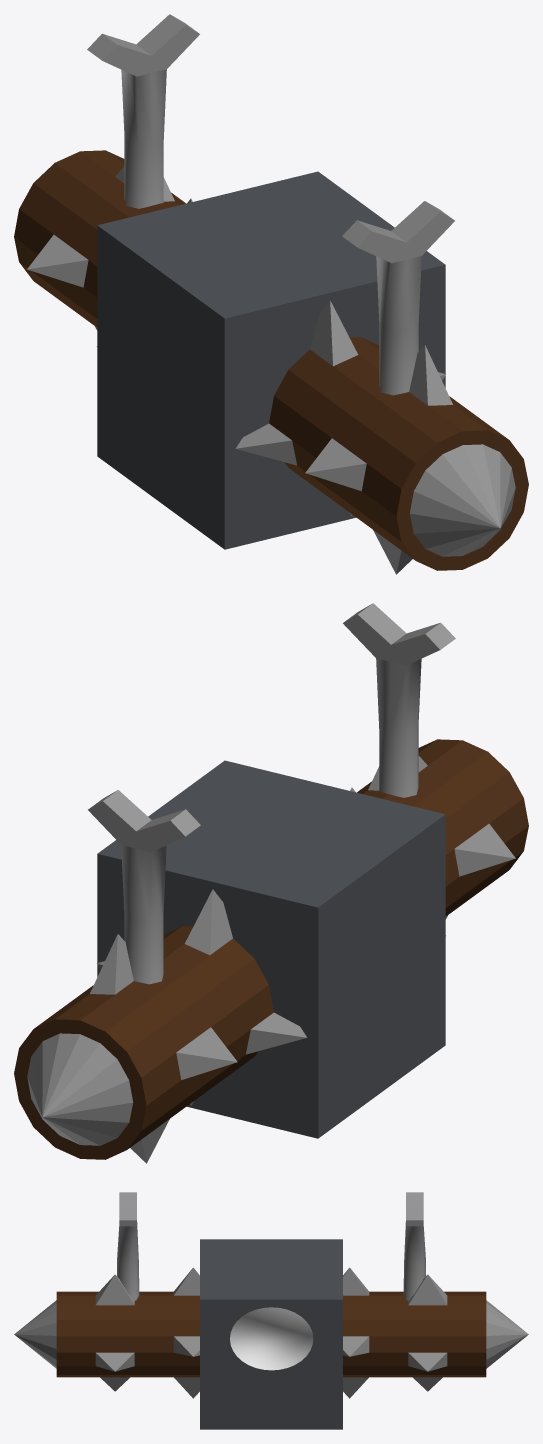
The model's file is roller.fbx.
3 views of the same model, one above another, from view 1: azimuth 30°, elevation 25°; view 2: azimuth 150°, elevation 25°; view 3: azimuth 270°, elevation 25° (orthographic). The views are drawn at different scales.
Visible parts, largest first — view 1: Body, Cylinder, Arms; view 2: Body, Cylinder, Arms; view 3: Cylinder, Body, Face, Arms.
Part boxes in pixels (box(x1,y1,x2,y2)): Body: box(97, 171, 445, 549); Cylinder: box(14, 150, 528, 574); Arms: box(87, 14, 454, 395); Body: box(97, 760, 445, 1138); Cylinder: box(14, 739, 528, 1163); Arms: box(88, 603, 455, 984); Cylinder: box(14, 1267, 528, 1398); Body: box(200, 1239, 342, 1429); Face: box(230, 1307, 313, 1370); Arms: box(117, 1192, 425, 1300).
Size of the model in its own units: 200 by 307 by 719.
